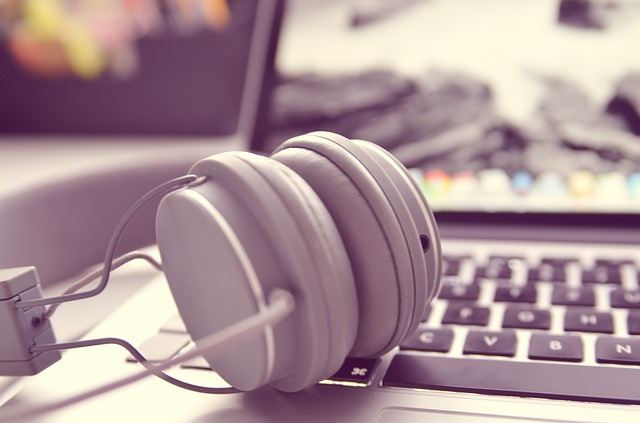headphones: (1, 132, 443, 394)
